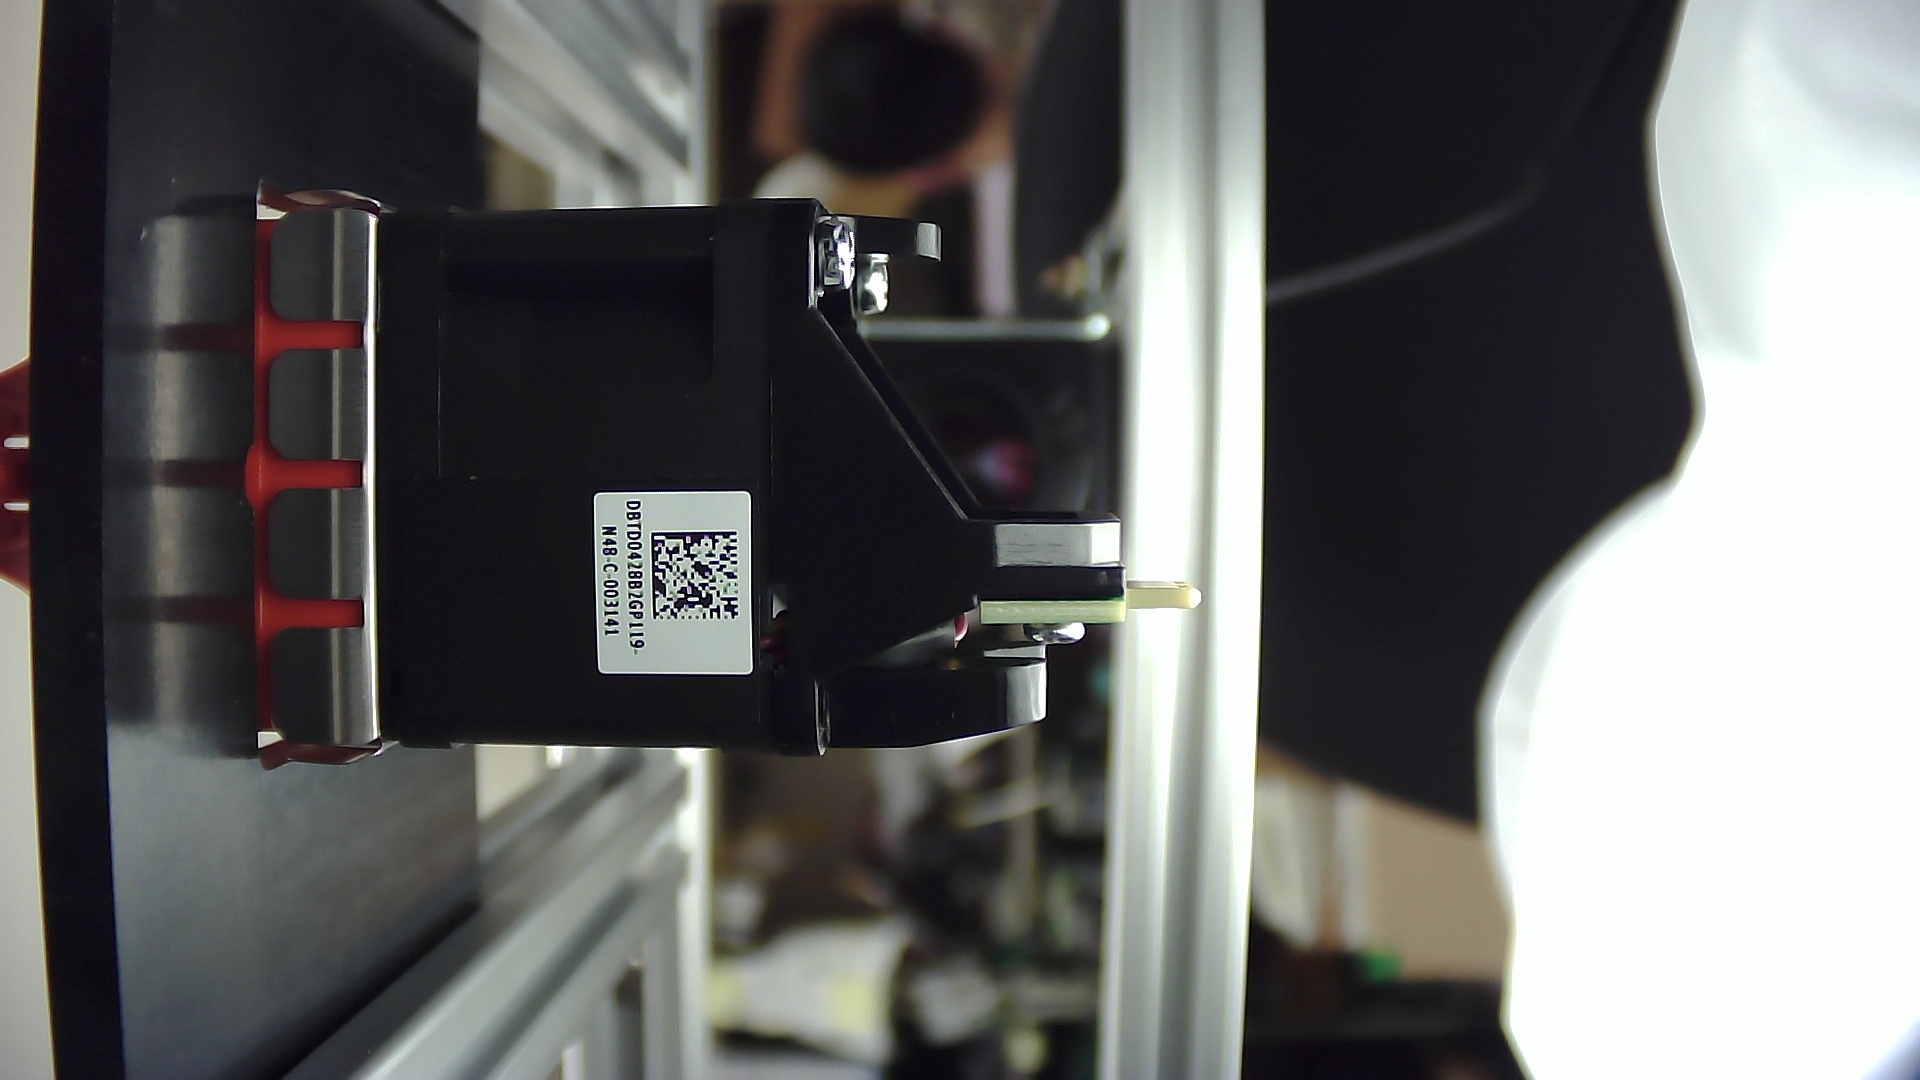8_0: (190, 152, 1250, 799)
